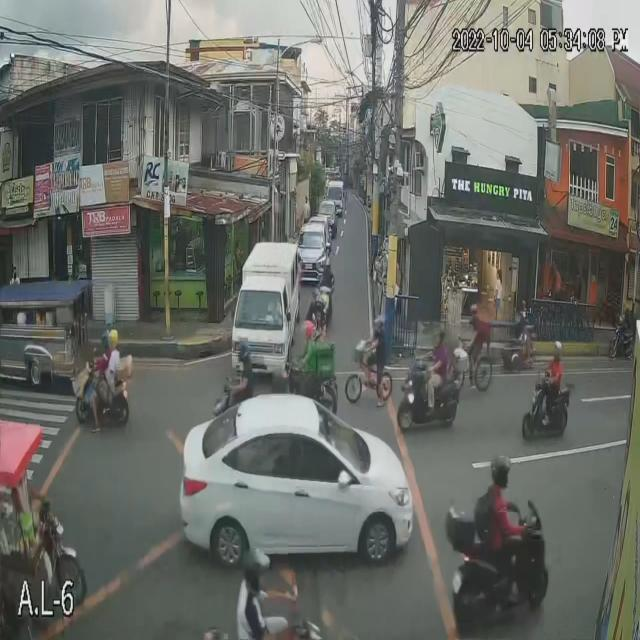full: (491, 454, 512, 489), (236, 340, 250, 361)
half: (242, 546, 270, 596), (106, 327, 121, 356), (301, 320, 317, 344)
